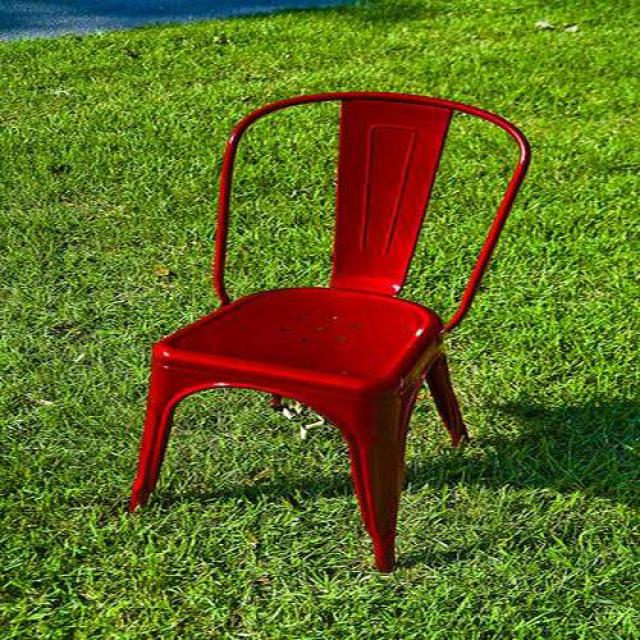chair: (125, 92, 534, 577)
